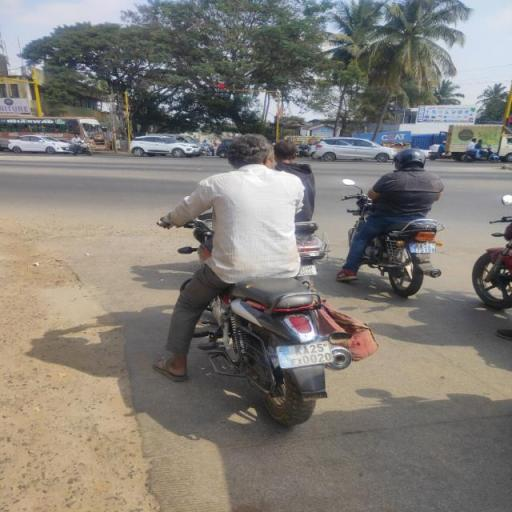bike: (148, 131, 372, 428)
numberplate: (270, 336, 344, 372)
withouthelmet: (225, 137, 271, 167)
